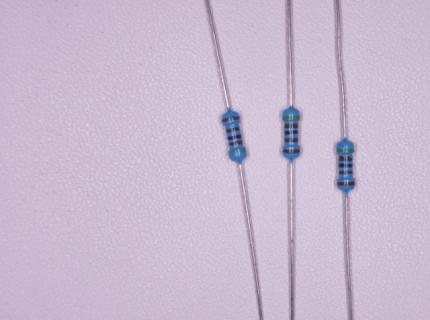Black band: (228, 135, 241, 141), (285, 130, 298, 135), (339, 163, 353, 167)
Brown band: (222, 116, 240, 122), (283, 149, 300, 154), (228, 140, 242, 146), (227, 127, 239, 133), (337, 182, 355, 186), (285, 123, 299, 128), (339, 156, 353, 161), (285, 138, 298, 143), (339, 171, 353, 174)
Green band: (229, 148, 246, 155), (283, 115, 300, 119), (337, 149, 354, 153)
